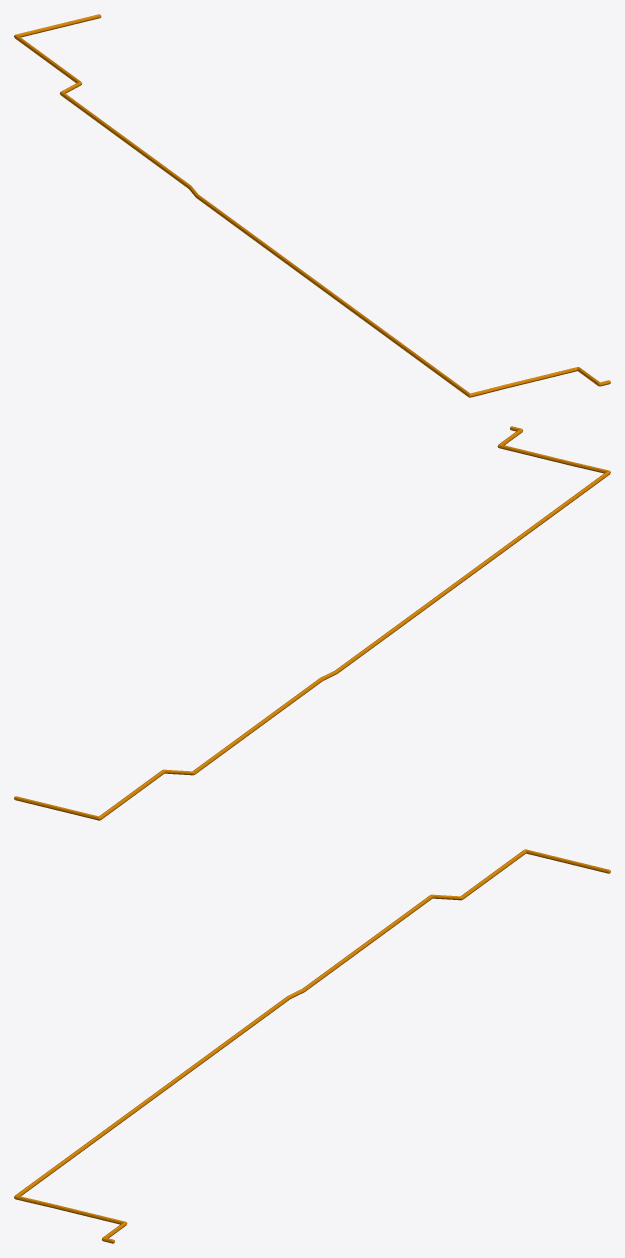
The picture shows the model from 3 angles, top to bottom: view 1: azimuth 30°, elevation 25°; view 2: azimuth 150°, elevation 25°; view 3: azimuth 330°, elevation 25°; orthographic projection.
Bounding box in the file's own units: 657 × 20 × 4720.
